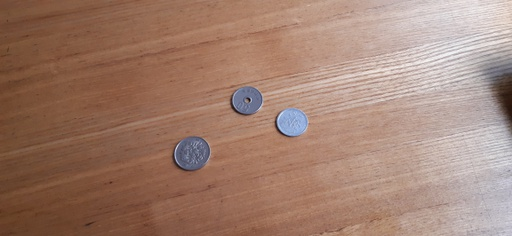100yen: (174, 137, 210, 171)
1yen: (275, 108, 307, 136)
50yen: (231, 86, 262, 115)
